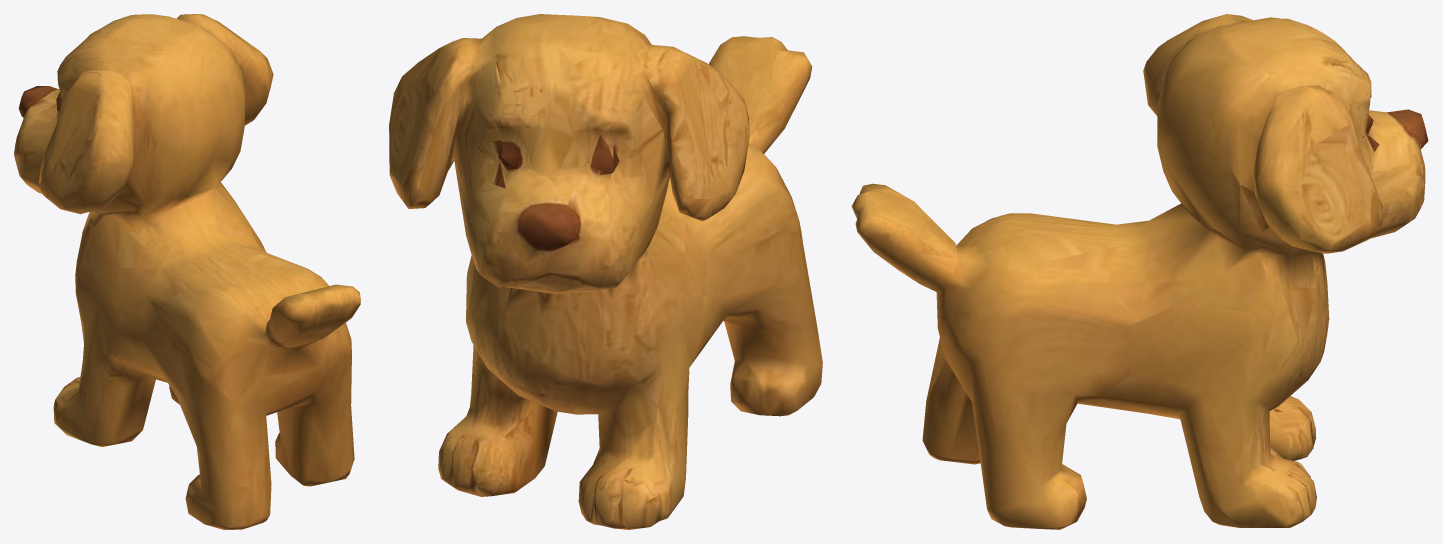
File: dog.glb
The picture shows the model from 3 angles, left to right: view 1: azimuth 30°, elevation 25°; view 2: azimuth 150°, elevation 25°; view 3: azimuth 270°, elevation 25°; orthographic projection. The views are drawn at different scales.
Parts seen in each view (by area): view 1: animal_dog; view 2: animal_dog; view 3: animal_dog.
Part boxes in pixels (x1,y1,x2,y2): animal_dog: [14, 14, 360, 529]; animal_dog: [389, 14, 822, 529]; animal_dog: [851, 14, 1428, 529].
Bounding box in the file's own units: 0.0263 × 0.04 × 0.0467.
Materials: 1 (1 with a texture image).
